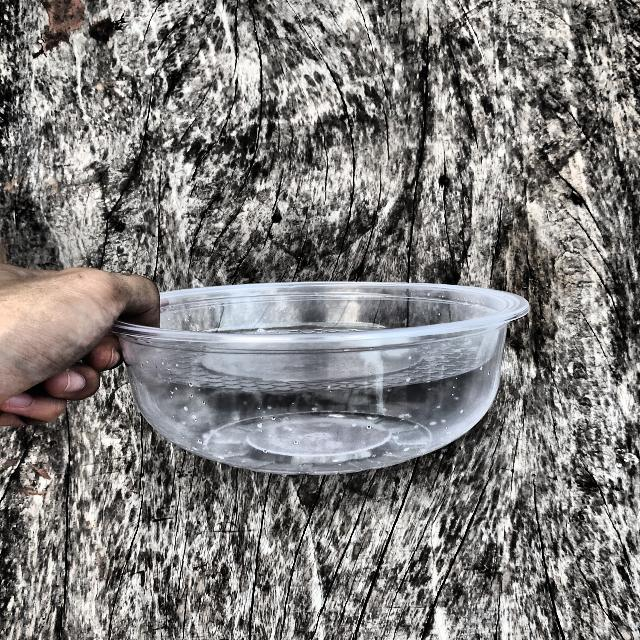plastic container: (95, 267, 546, 486)
